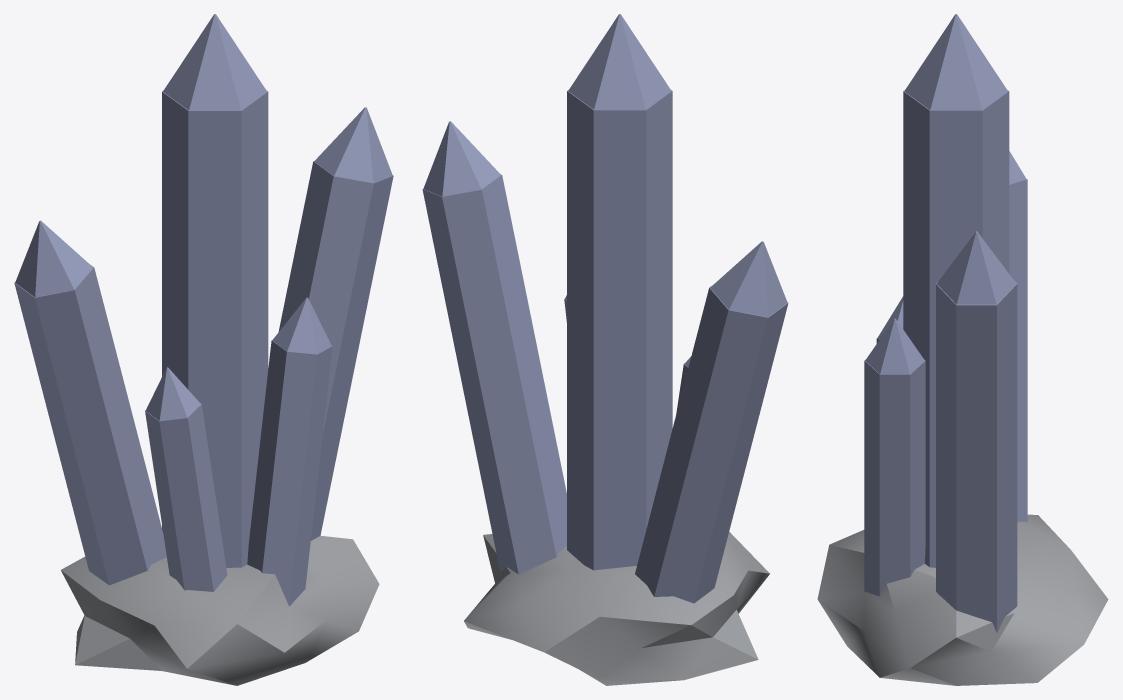
Rendered from perk_cold_blood.gltf.
3 renders of one model, left to right at view 1: azimuth 30°, elevation 25°; view 2: azimuth 150°, elevation 25°; view 3: azimuth 270°, elevation 25°, orthographic.
Visible parts, largest first — view 1: Body; view 2: Body; view 3: Body.
Boxes of the visible parts, x1=… form: Body: x1=14, y1=14, x2=393, y2=685; Body: x1=422, y1=14, x2=788, y2=685; Body: x1=817, y1=14, x2=1108, y2=685.
Bounding box in the file's own units: 2 × 3.48 × 1.43.
